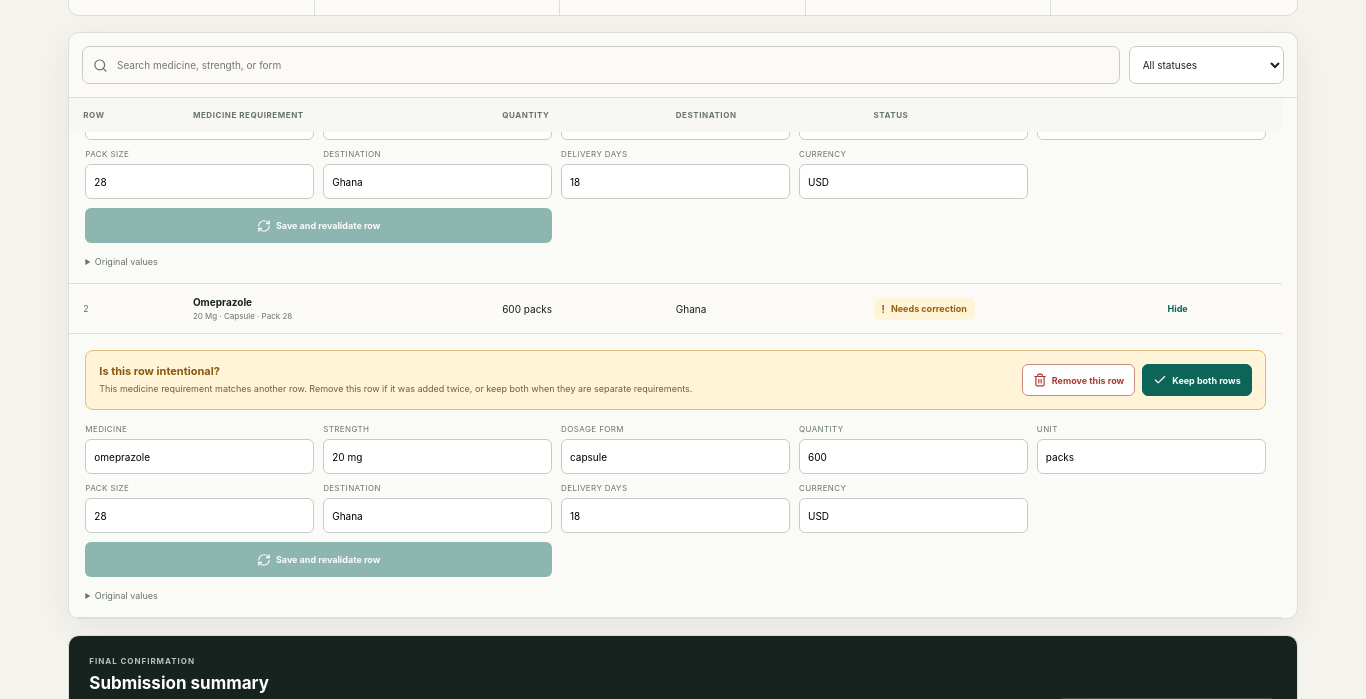
Scenario: buyer intake correction workflow › lets a buyer remove, restore, or keep duplicate rows inside the workspace
(page scrolled)
Click the button "Remove this row": x=1079, y=380 [1022,364,1135,396]
(page scrolled)
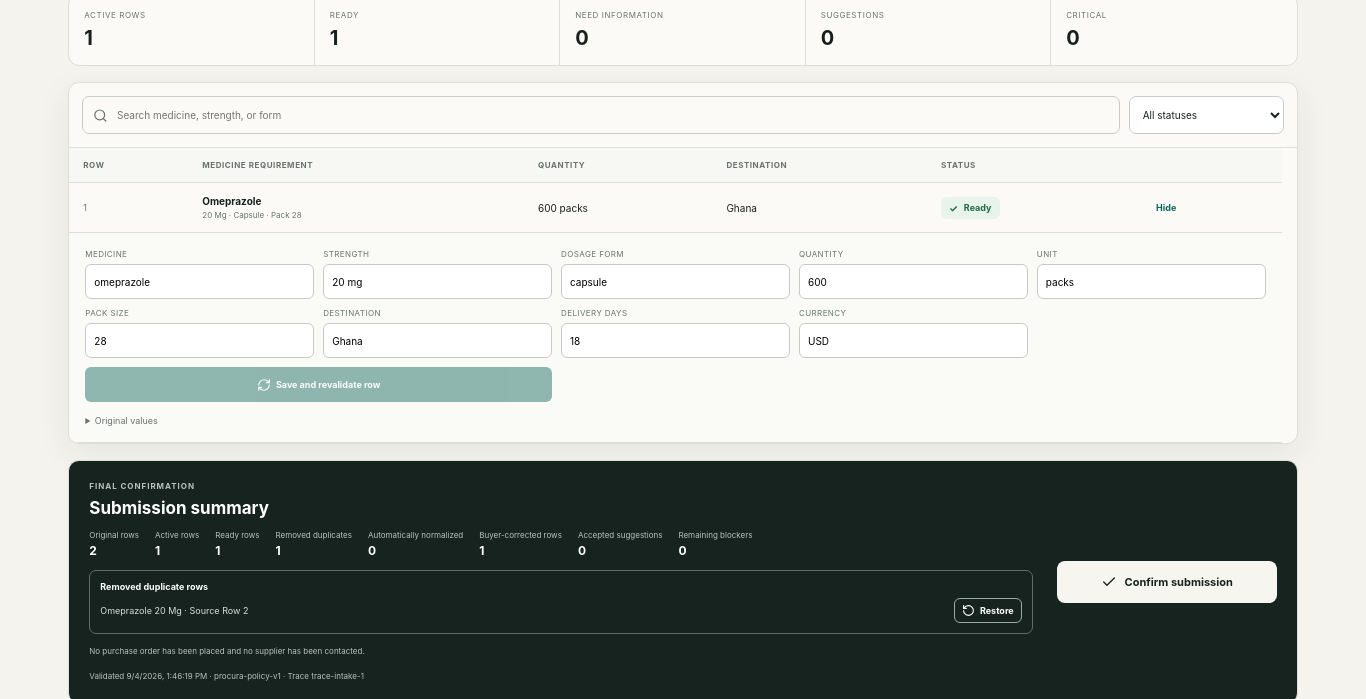
Check: the text "2" is shown, box [89,543,97,558]
Check: the text "Removed duplicate rows" is shown, box [100,581,208,592]
Check: the text "omeprazole 20 mg · source row 2" is shown, box [100,605,248,616]
Click the button "Restore": x=988, y=611 [954,598,1022,623]
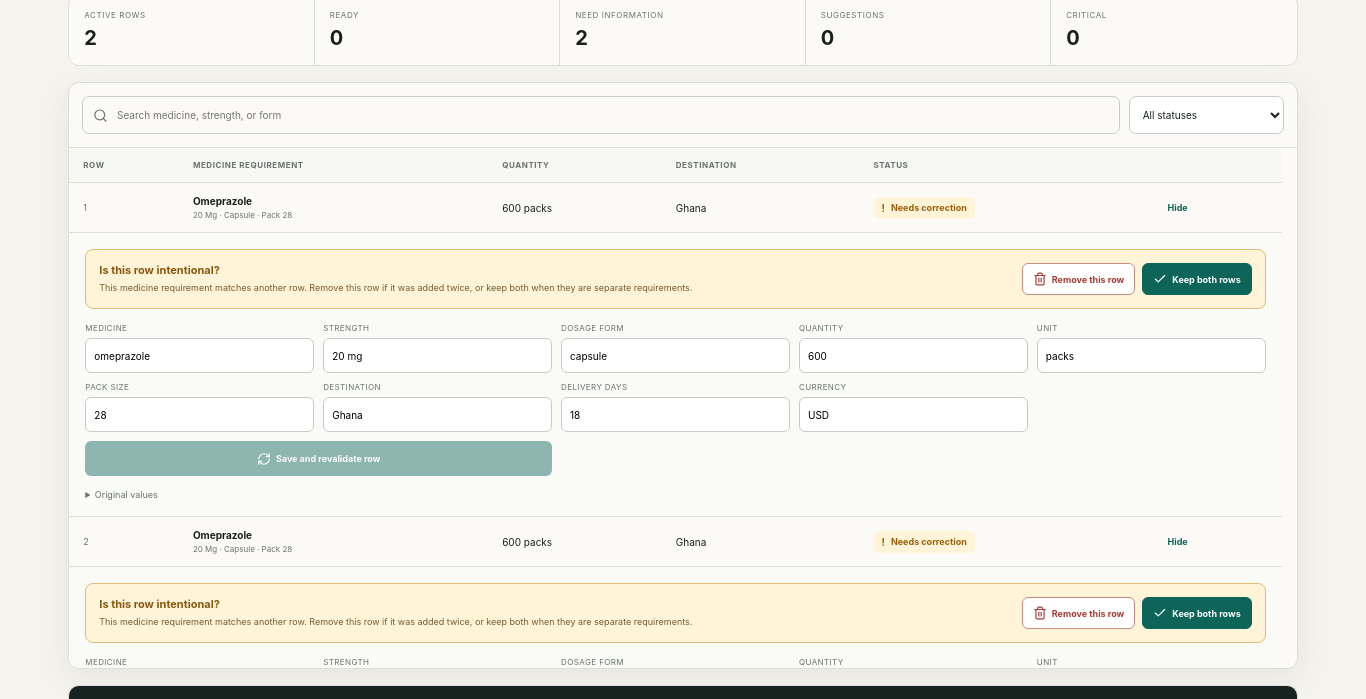
Click the 1st button "Keep both rows": x=1197, y=279 [1142,263,1252,295]
(page scrolled)
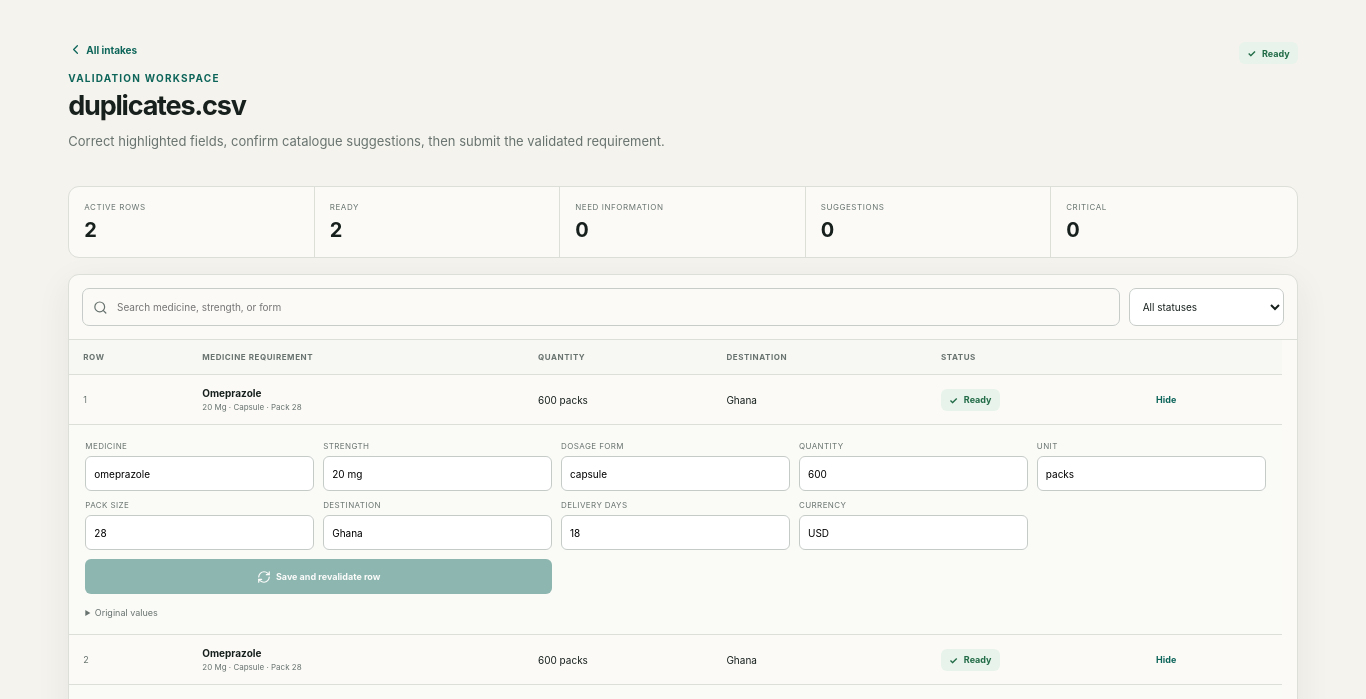
Check: the 1st text "Ready" is shown, box [1262,48,1290,58]
